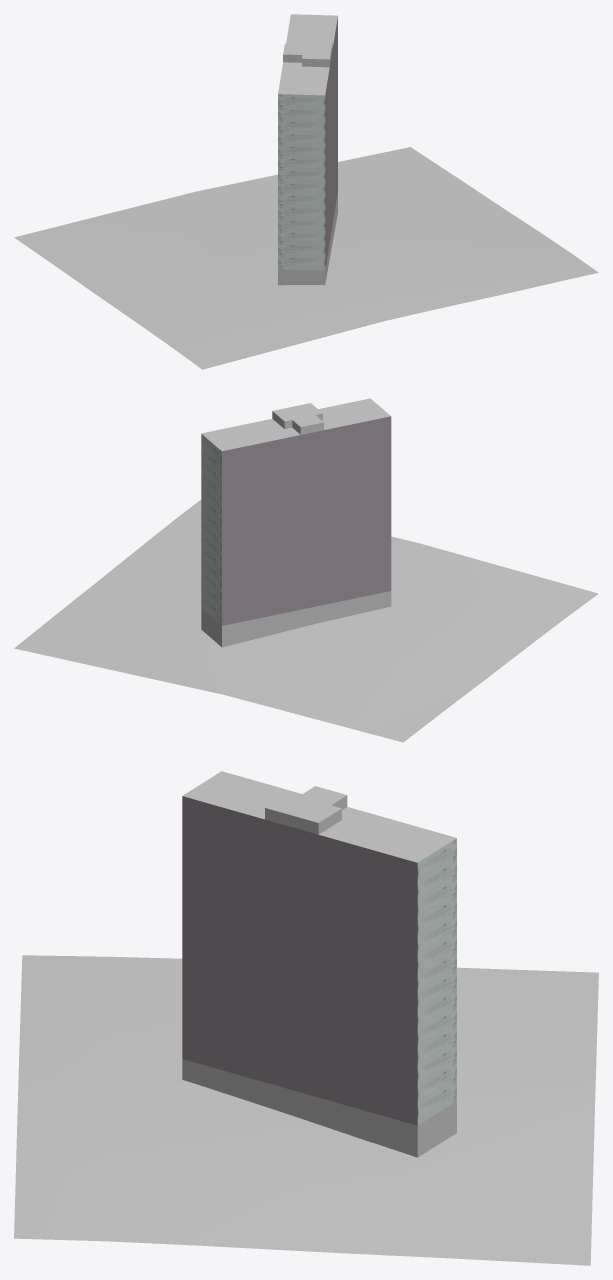
Rendered from predio06.fbx.
3 views of the same model, one above another, from view 1: azimuth 30°, elevation 25°; view 2: azimuth 150°, elevation 25°; view 3: azimuth 270°, elevation 25° (orthographic). The views are drawn at different scales.
Parts seen in each view (by area): view 1: Google_Earth_Terrain, Model; view 2: Google_Earth_Terrain, Model; view 3: Google_Earth_Terrain, Model.
Boxes of the visible parts, x1,y1,x2,y2 form: Google_Earth_Terrain: (14,147,598,369); Model: (278,14,337,285); Google_Earth_Terrain: (14,500,598,742); Model: (201,398,391,647); Google_Earth_Terrain: (14,955,598,1265); Model: (182,771,456,1157).
Bounding box in the file's own units: 107 × 54.69 × 90.76.
